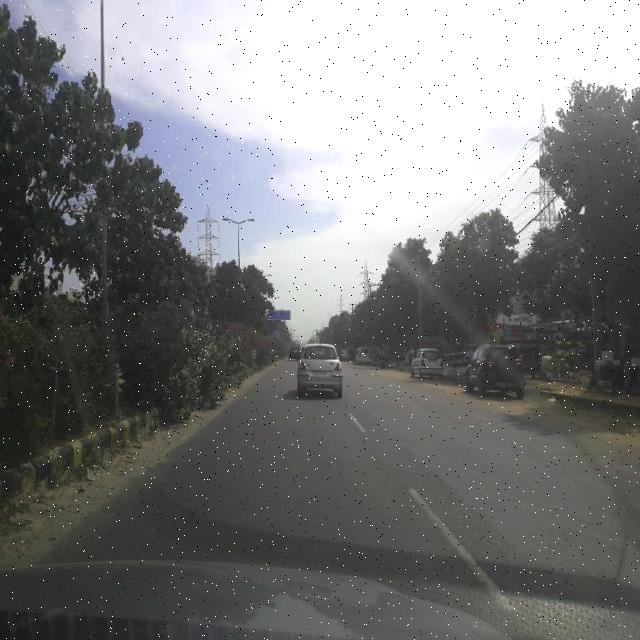D20: (62, 443, 576, 600)
